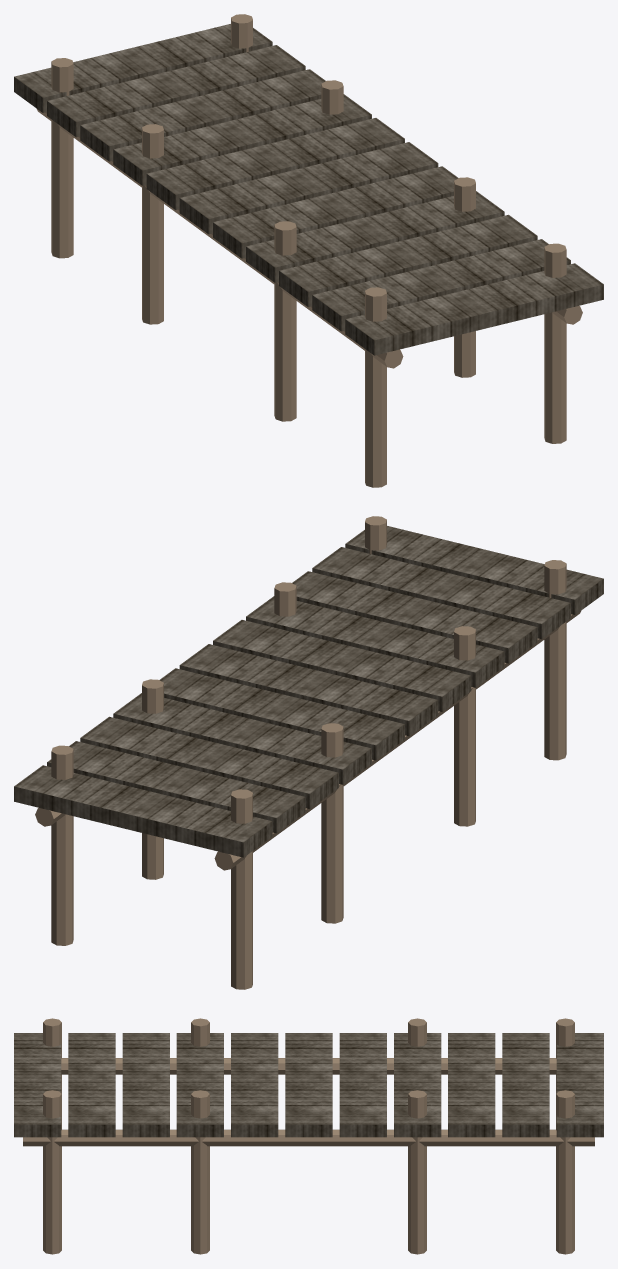
Rendered from see_steg_6m.glb.
The picture shows the model from 3 angles, top to bottom: view 1: azimuth 30°, elevation 25°; view 2: azimuth 150°, elevation 25°; view 3: azimuth 270°, elevation 25°; orthographic projection. The views are drawn at different scales.
Visible parts, largest first — view 1: see_steg_6m_010, see_steg_6m_005, see_steg_6m_001, see_steg_6m_004, see_steg_6m_008, see_steg_6m_002, see_steg_6m_006, see_steg_6m_003, see_steg_6m_007, see_steg_6m_009, see_steg_6m_000, see_steg_6m_012 (+8 smaller); view 2: see_steg_6m_000, see_steg_6m_005, see_steg_6m_002, see_steg_6m_006, see_steg_6m_009, see_steg_6m_008, see_steg_6m_004, see_steg_6m_007, see_steg_6m_003, see_steg_6m_001, see_steg_6m_010, see_steg_6m_015 (+8 smaller); view 3: see_steg_6m_016, see_steg_6m_001, see_steg_6m_005, see_steg_6m_009, see_steg_6m_002, see_steg_6m_004, see_steg_6m_006, see_steg_6m_008, see_steg_6m_003, see_steg_6m_007, see_steg_6m_000, see_steg_6m_010 (+9 smaller).
Part boxes in pixels (x1,y1,x2,y2): see_steg_6m_010: (345,263,603,355); see_steg_6m_005: (179,142,438,234); see_steg_6m_001: (47,45,305,137); see_steg_6m_004: (146,118,404,209); see_steg_6m_008: (279,214,537,306); see_steg_6m_002: (80,69,325,161); see_steg_6m_006: (213,166,458,258); see_steg_6m_003: (113,94,371,185); see_steg_6m_007: (246,191,504,282); see_steg_6m_009: (312,239,570,331); see_steg_6m_000: (14,24,272,112); see_steg_6m_012: (51,58,73,258); see_steg_6m_000: (14,765,272,857); see_steg_6m_005: (179,644,438,736); see_steg_6m_002: (80,716,338,808); see_steg_6m_006: (213,620,471,711); see_steg_6m_009: (312,547,570,639); see_steg_6m_008: (292,571,537,663); see_steg_6m_004: (159,668,404,760); see_steg_6m_007: (246,596,504,687); see_steg_6m_003: (113,693,371,784); see_steg_6m_001: (47,741,305,833); see_steg_6m_010: (345,526,603,614); see_steg_6m_015: (544,560,566,760); see_steg_6m_016: (23,1129,594,1146); see_steg_6m_001: (502,1033,549,1137); see_steg_6m_005: (285,1033,332,1137); see_steg_6m_009: (68,1033,115,1137); see_steg_6m_002: (448,1033,495,1137); see_steg_6m_004: (339,1033,386,1137); see_steg_6m_006: (231,1033,278,1137); see_steg_6m_008: (122,1033,169,1137); see_steg_6m_003: (394,1033,441,1137); see_steg_6m_007: (176,1033,223,1137); see_steg_6m_000: (556,1033,603,1137); see_steg_6m_010: (14,1033,61,1137).
Size of the model in its own units: 2.2 by 1.75 by 5.98.
Materials: 1 (1 with a texture image).
